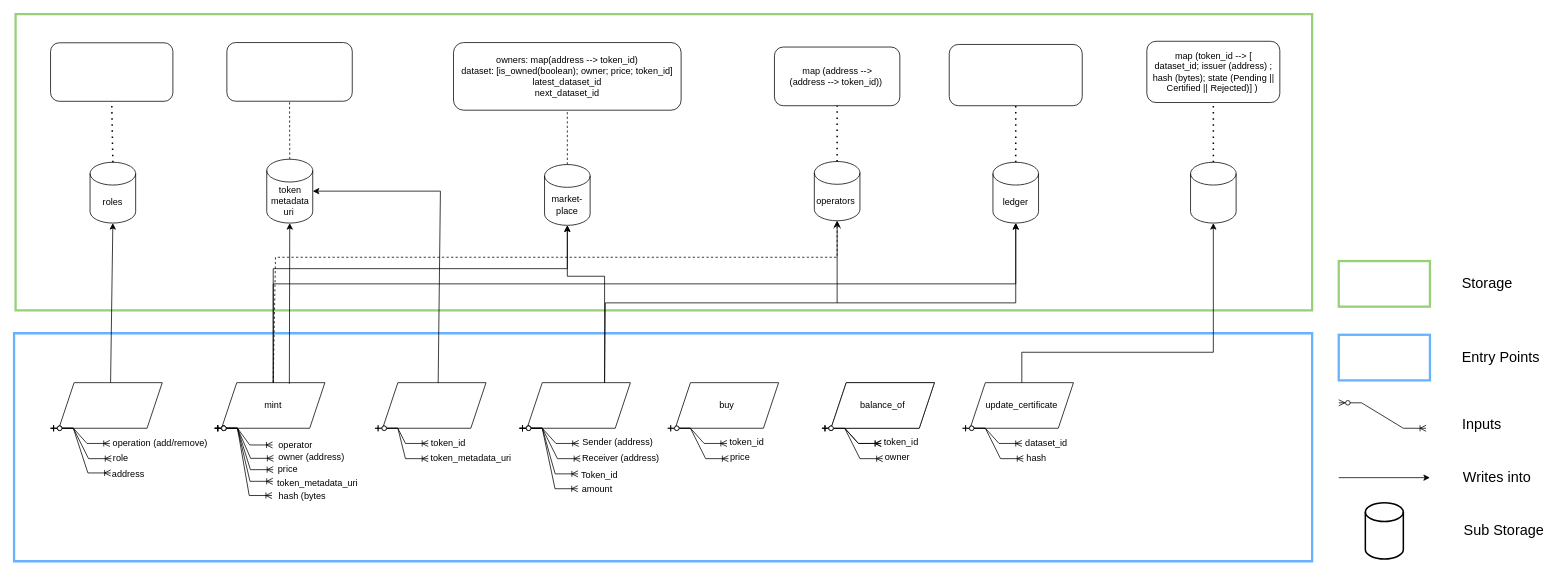
The diagram is 1563 pixels wide and 575 high, and some of its shapes have lost their labels. Here are the shapes that lost their labels. From the top down, the box of each, then its label:
(50, 42, 173, 101): map (address --> role)
(226, 42, 352, 101): map (token_id --> ipfs uri)
(948, 44, 1082, 106): map (token_id --> address )
(1190, 162, 1236, 223): certificates
(58, 382, 162, 428): update_user_roles
(382, 382, 486, 428): update_metadata_uri
(526, 382, 630, 428): transfer
